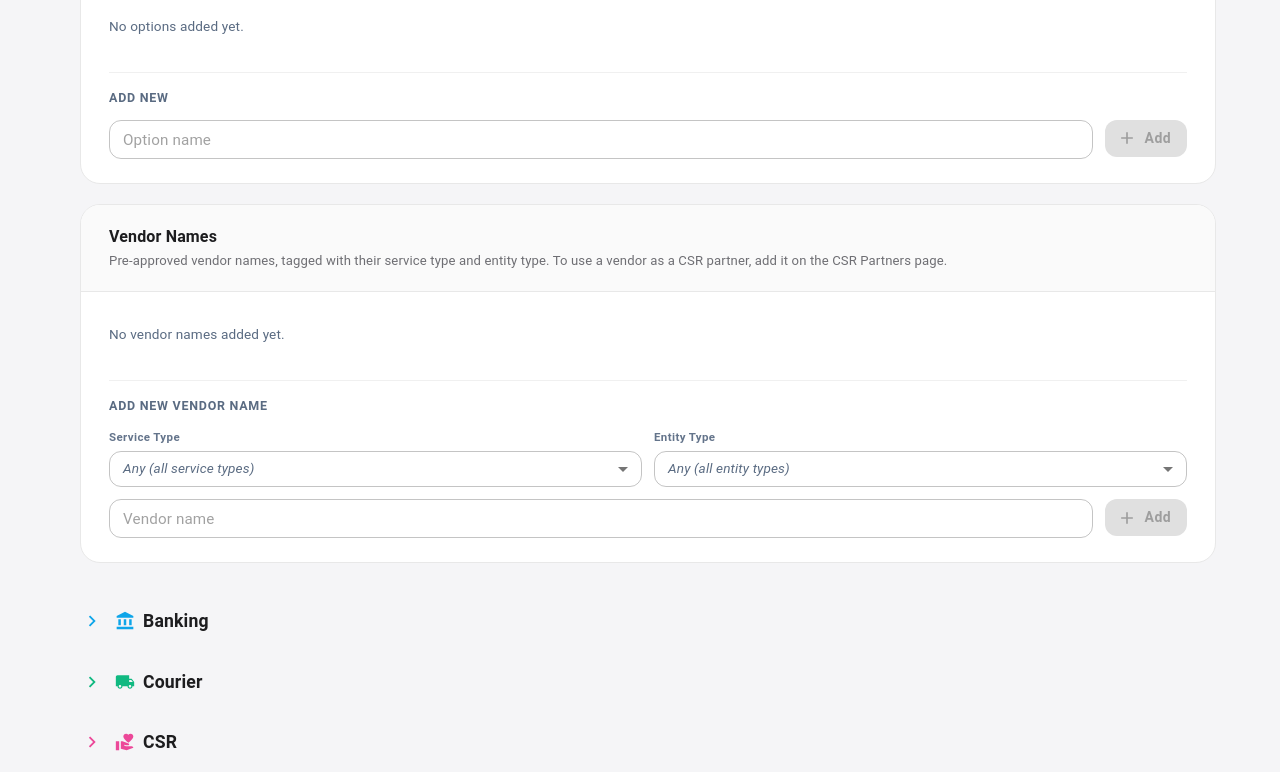
Test: renaming a funder goes through the backend rename and names grants
This screenshot has width=1280, height=772.
(page scrolled)
Step 1. Click the text "CSR" → [160, 742], box [143, 729, 177, 755]
(page scrolled)
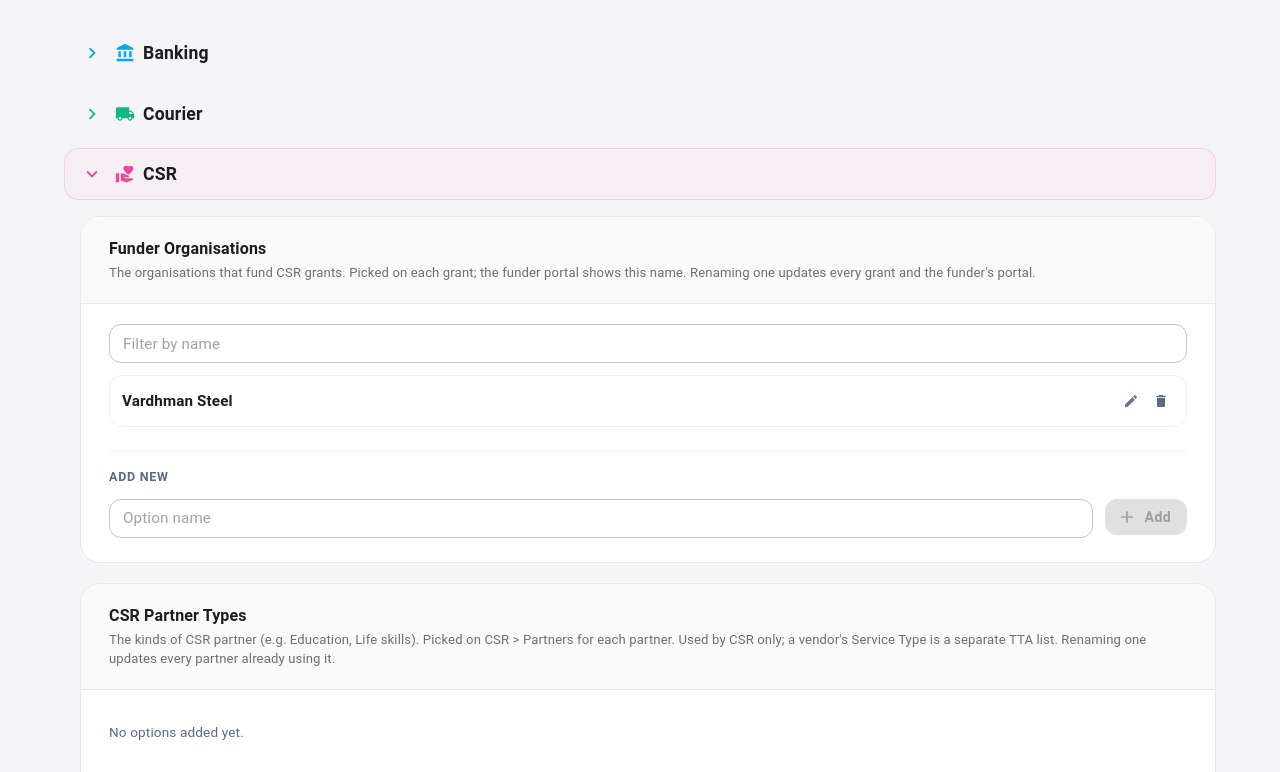
Result: the text "Vardhman Steel" is shown at [122, 390, 233, 412]
Step 2. Click the button named "Edit" → [1131, 401], box [1118, 388, 1144, 414]
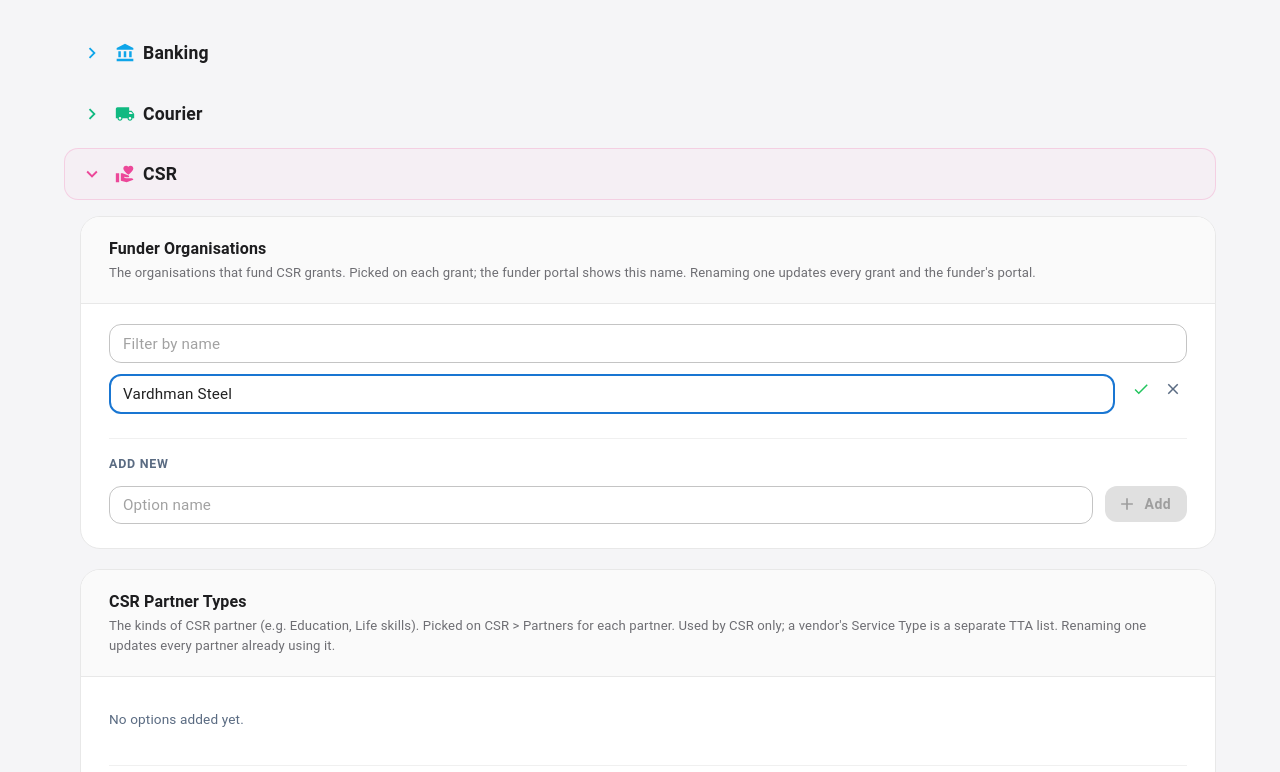
Step 3. Replace the text in the field showing "Vardhman Steel" with "Vardhman Group" → [612, 394], box [109, 375, 1115, 414]
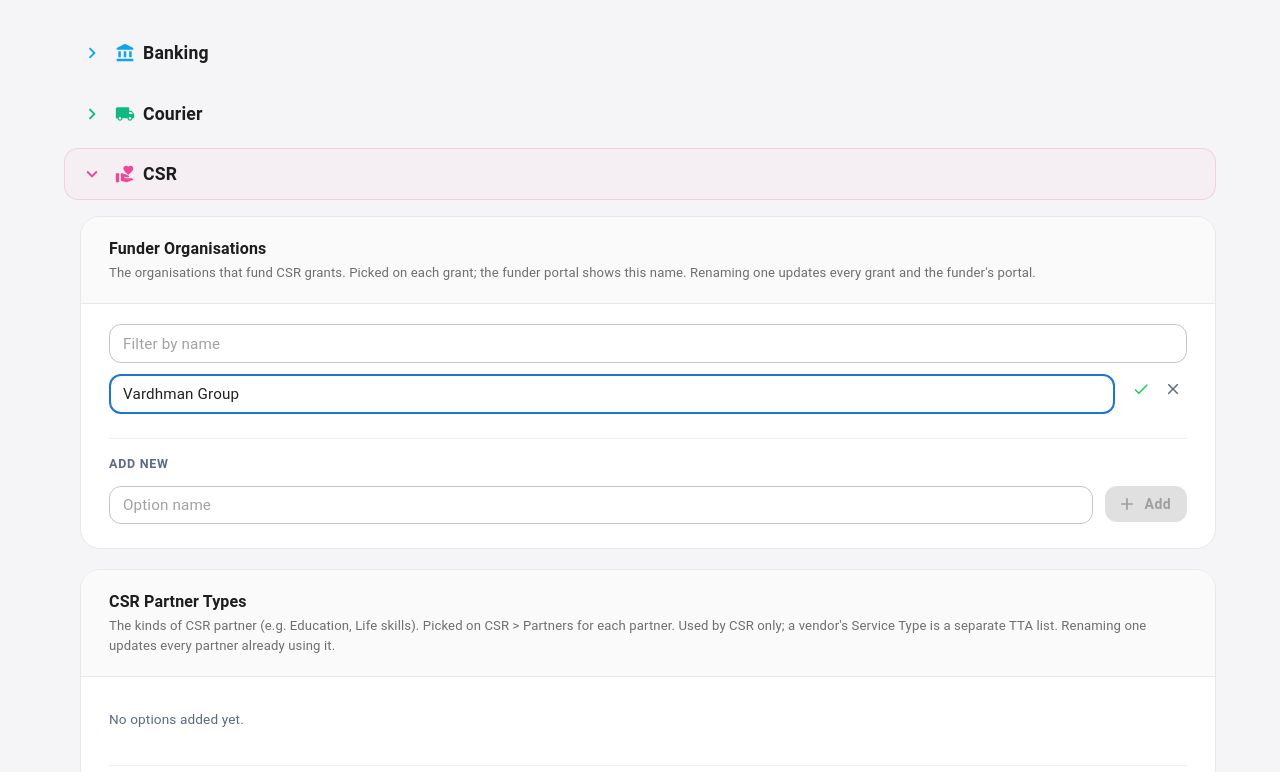
Step 4. Click the button named "Save" → [1141, 389], box [1127, 375, 1155, 403]
(page scrolled)
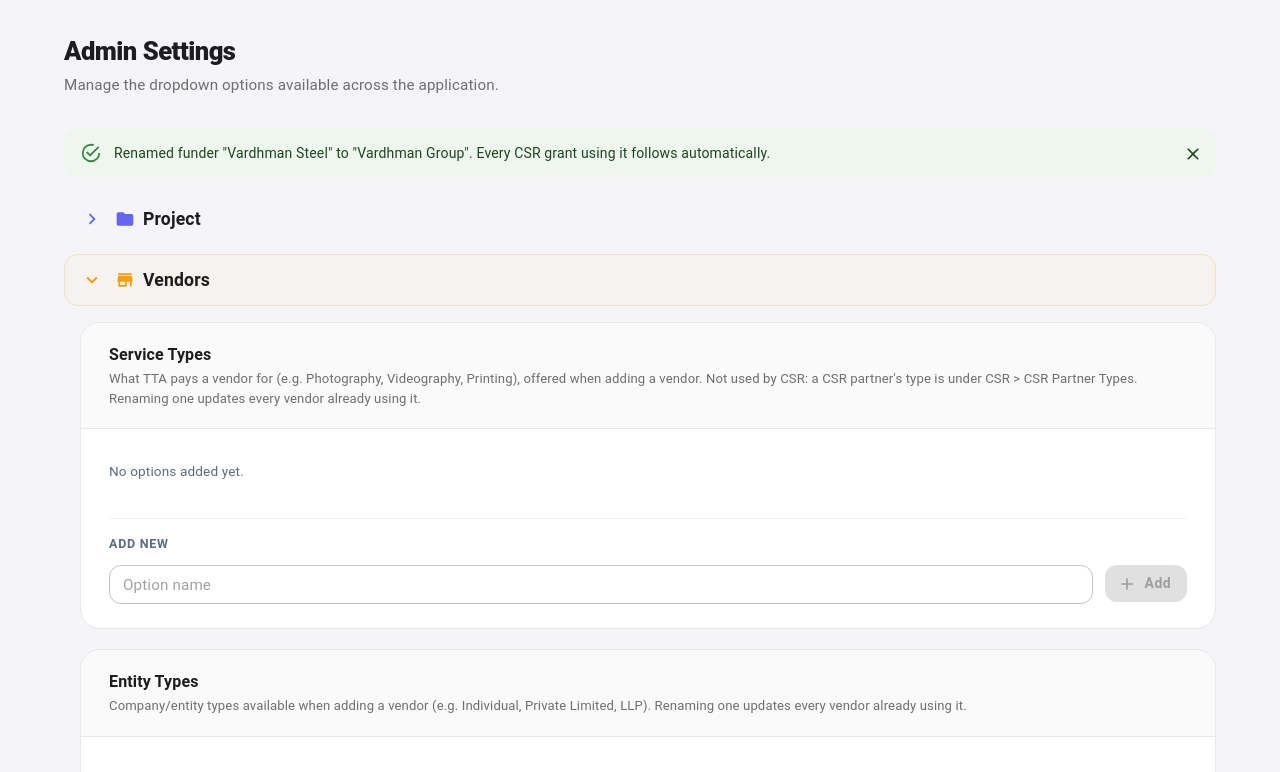
Result: the text "Every CSR grant using it follows automatically" is shown at [114, 145, 770, 161]
